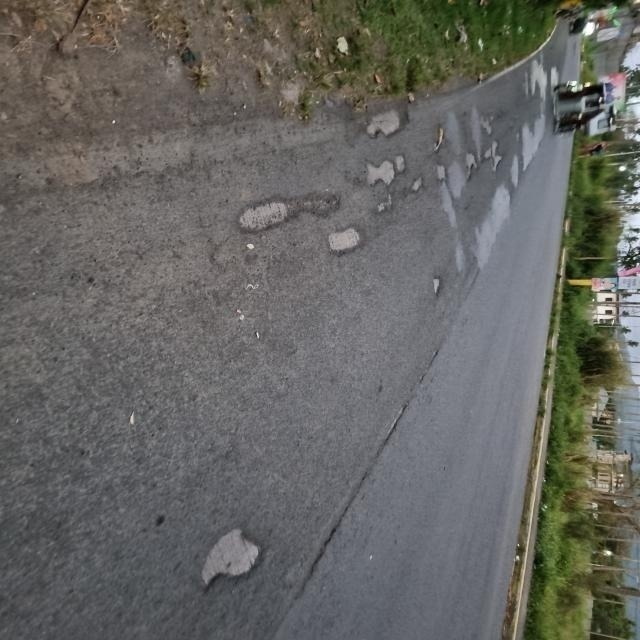pothole: (198, 94, 554, 286), (166, 502, 292, 596)
